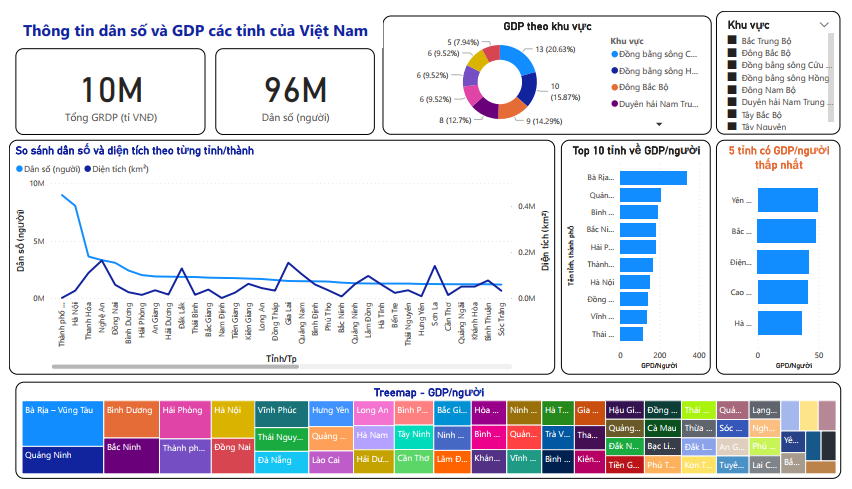

The page's visual inventory and layout, read from the dashboard file:
{"tool":"powerbi","page":{"name":"Page 1","canvas":[1280,720],"ordinal":0},"visuals":[{"type":"card","title":"Tổng thu nhập quốc dân (triệu VNĐ)","fields":{"Values":["Sum(Danh sách tỉnh thành[sửa | sửa mã nguồn].Tổng GRDP (tỉ VNĐ))"]},"box":[10.1,57.1,292.3,132.7],"z":0},{"type":"card","title":"Dân số","fields":{"Values":["Sum(Danh sách tỉnh thành[sửa | sửa mã nguồn].Dân số (người))"]},"box":[317.5,57.1,245.2,132.7],"z":1000},{"type":"lineChart","title":"So sánh dân số và diện tích theo từng tỉnh/thành","fields":{"Category":["Danh sách các đơn vị hành chính Việt Nam theo Tổng sản phẩm trên địa bàn (GRDP).Tỉnh/Tp"],"Y":["Sum(Danh sách tỉnh thành[sửa | sửa mã nguồn].Dân số (người))"],"Y2":["Sum(Danh sách tỉnh thành[sửa | sửa mã nguồn].Diện tích (km²))"]},"box":[0,198.2,839.9,361.2],"z":2000},{"type":"donutChart","title":"GDP theo khu vực","fields":{"Category":["Danh sách tỉnh thành[sửa | sửa mã nguồn].Khu vực"],"Y":["CountNonNull(Danh sách tỉnh thành[sửa | sửa mã nguồn].Tổng GRDP (tỉ VNĐ))"]},"box":[574.5,6.7,505.6,183.1],"z":3000},{"type":"barChart","title":"Top 10 tỉnh về GDP/người","fields":{"Category":["Danh sách tỉnh thành[sửa | sửa mã nguồn].Tên tỉnh, thành phố"],"Y":["Sum(Danh sách tỉnh thành[sửa | sửa mã nguồn].GPD/Người)"]},"box":[850,198.2,230.1,361.2],"z":4000},{"type":"barChart","title":"5 tỉnh có GDP/người thấp nhất","fields":{"Category":["Danh sách các đơn vị hành chính Việt Nam theo Tổng sản phẩm trên địa bàn (GRDP).Tỉnh/Tp"],"Y":["Sum(Danh sách tỉnh thành[sửa | sửa mã nguồn].GPD/Người)"]},"box":[1088.5,198.2,191.5,361.2],"z":5000},{"type":"slicer","fields":{"Values":["Danh sách tỉnh thành[sửa | sửa mã nguồn].Khu vực"]},"box":[1088.5,0,191.5,189.8],"z":6000},{"type":"treemap","title":"Treemap - GDP/người","fields":{"Group":["Danh sách các đơn vị hành chính Việt Nam theo Tổng sản phẩm trên địa bàn (GRDP).Tỉnh/Tp"],"Values":["Sum(Danh sách tỉnh thành[sửa | sửa mã nguồn].GPD/Người)"]},"box":[10.1,570.5,1270.4,149.5],"z":6001},{"type":"textbox","box":[0,6.7,574.5,50.4],"z":6002}]}

Visuals, with their boxes in screenshot pixels (x1, y1, x2, y2), scaled from the page's 1280x720 canvas onto the 852x489 screenshot:
"Tổng thu nhập quốc dân (triệu VNĐ)" card: [7, 39, 201, 129]
"Dân số" card: [211, 39, 375, 129]
"So sánh dân số và diện tích theo từng tỉnh/thành" lineChart: [0, 135, 559, 380]
"GDP theo khu vực" donutChart: [382, 5, 719, 129]
"Top 10 tỉnh về GDP/người" barChart: [566, 135, 719, 380]
"5 tỉnh có GDP/người thấp nhất" barChart: [725, 135, 851, 380]
slicer - Danh sách tỉnh thành[sửa | sửa mã nguồn].Khu vực: [725, 0, 851, 129]
"Treemap - GDP/người" treemap: [7, 387, 851, 488]
textbox: [0, 5, 382, 39]
